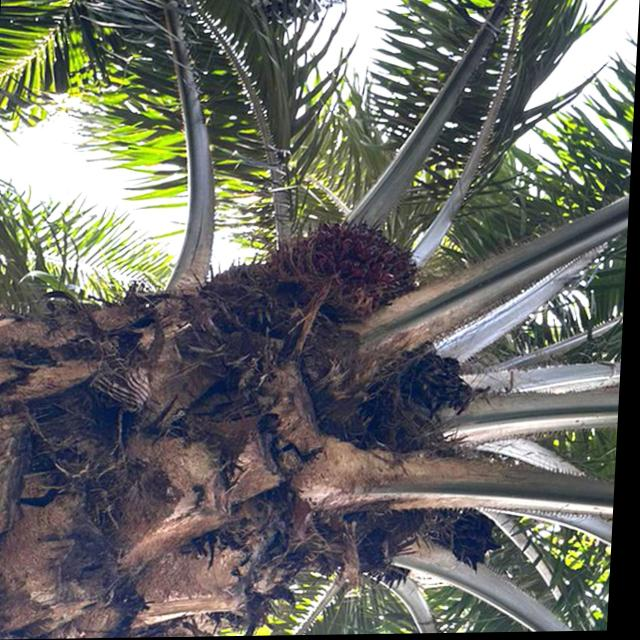ripe: (280, 222, 430, 318)
